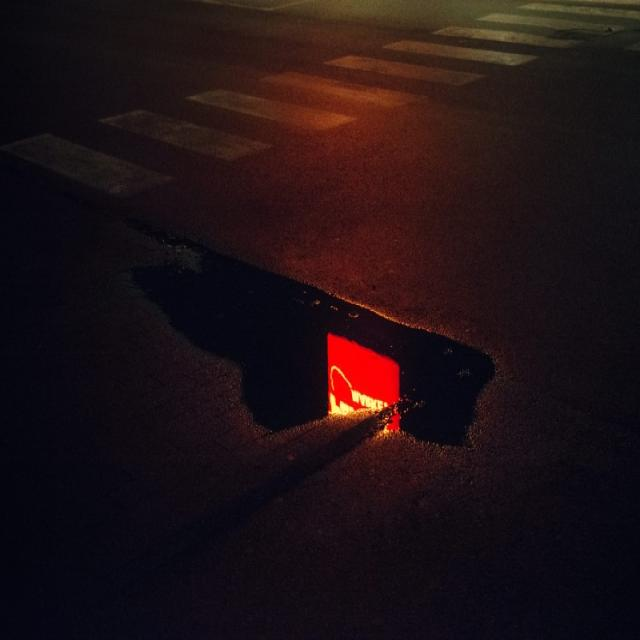pothole: (135, 227, 499, 450)
